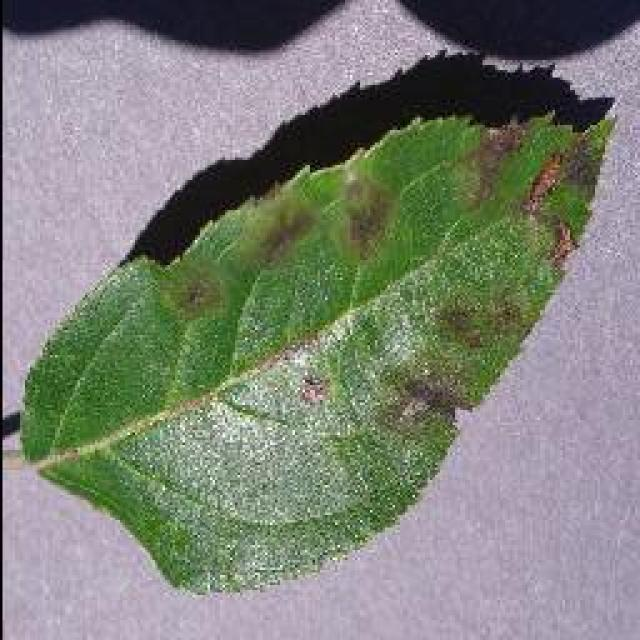apple scab disease: (13, 97, 615, 595)
